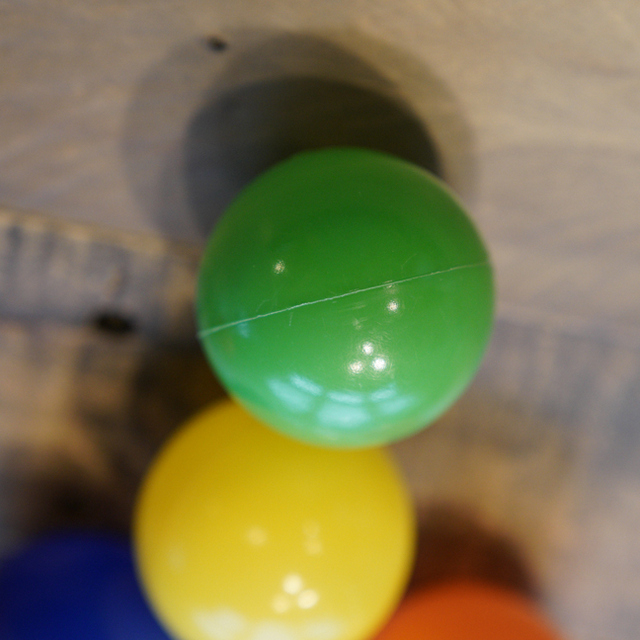Ball: (194, 144, 495, 442)
